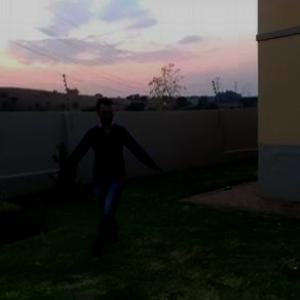land: (47, 86, 158, 264)
